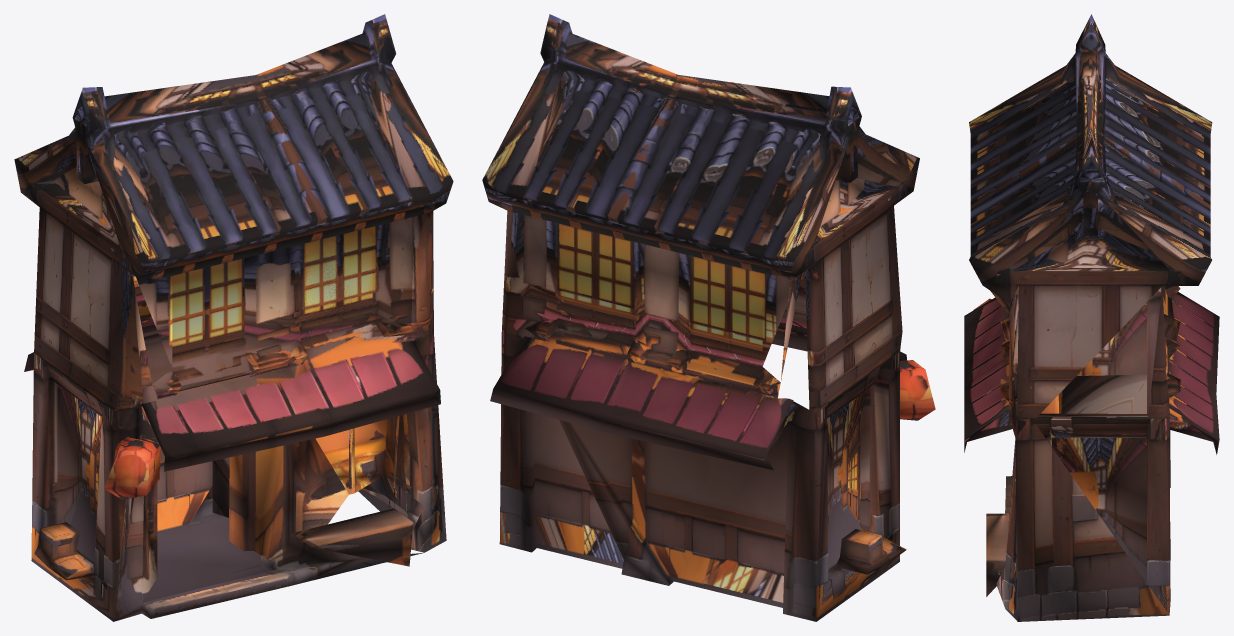
File: 01-timber-shop.fbx
3 renders of one model, left to right at view 1: azimuth 30°, elevation 25°; view 2: azimuth 150°, elevation 25°; view 3: azimuth 270°, elevation 25°, orthographic. The views are drawn at different scales.
Visible parts, largest first — view 1: tripo_node_81a61b6e; view 2: tripo_node_81a61b6e; view 3: tripo_node_81a61b6e.
Boxes of the visible parts, x1,y1,x2,y2 form: tripo_node_81a61b6e: (14,14,453,621); tripo_node_81a61b6e: (482,14,935,621); tripo_node_81a61b6e: (964,14,1219,621).
Size of the model in its own units: 600 by 800 by 400.
Materials: 1 (1 with a texture image).
